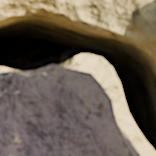brick: (0, 66, 139, 155)
crack: (0, 2, 155, 154)
